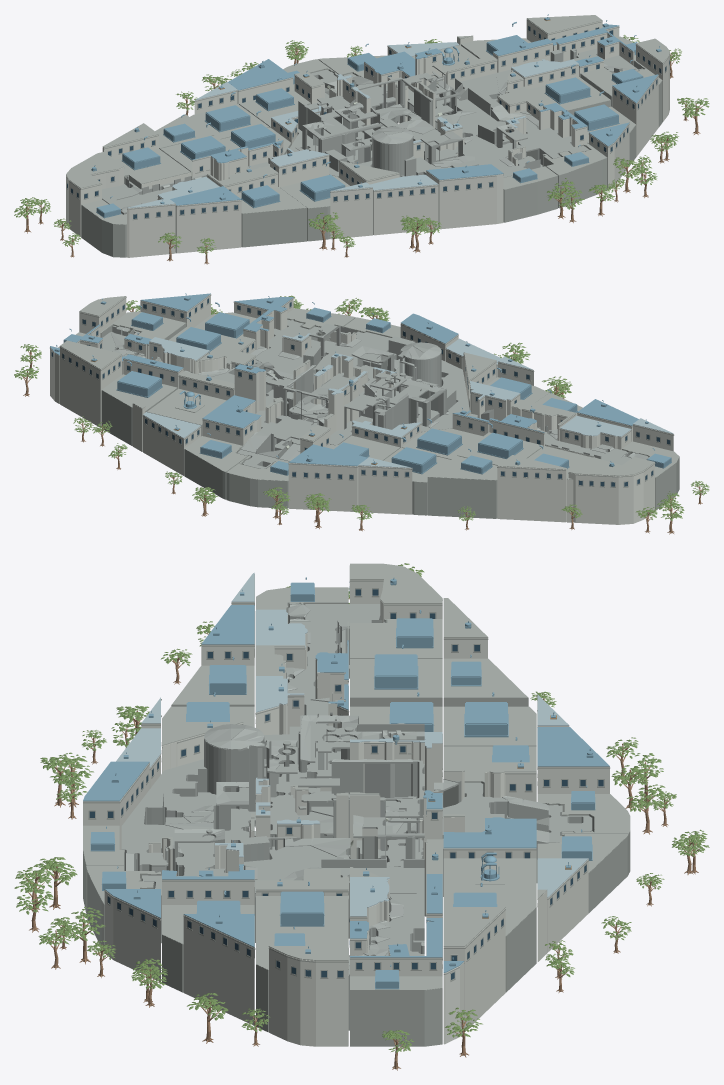
Rendered from nuke.glb.
3 renders of one model, top to bottom at view 1: azimuth 30°, elevation 25°; view 2: azimuth 150°, elevation 25°; view 3: azimuth 270°, elevation 25°, orthographic. The views are drawn at different scales.
Visible parts, largest first — view 1: ARENA_upper_wall, ARENA_upper_stone, ARENA_upper_paving, ARENA_upper_metal, ARENA_lower_leaf, ARENA_upper_roof, ARENA_upper_glass, ARENA_lower_bark; view 2: ARENA_upper_wall, ARENA_upper_stone, ARENA_upper_paving, ARENA_upper_metal, ARENA_upper_roof, ARENA_lower_leaf, ARENA_upper_glass, ARENA_lower_bark; view 3: ARENA_upper_stone, ARENA_upper_wall, ARENA_upper_paving, ARENA_upper_metal, ARENA_lower_leaf, ARENA_upper_roof, ARENA_lower_bark, ARENA_upper_glass.
Part boxes in pixels (x1,y1,x2,y2): ARENA_upper_wall: (66,19,669,257); ARENA_upper_stone: (66,15,669,257); ARENA_upper_paving: (102,48,643,214); ARENA_upper_metal: (91,14,661,218); ARENA_lower_leaf: (14,35,709,254); ARENA_upper_roof: (127,42,604,208); ARENA_upper_glass: (67,26,669,218); ARENA_lower_bark: (23,39,703,264); ARENA_upper_wall: (50,294,673,524); ARENA_upper_stone: (50,294,679,518); ARENA_upper_paving: (102,319,650,468); ARENA_upper_metal: (50,293,671,475); ARENA_upper_roof: (142,328,673,471); ARENA_lower_leaf: (14,295,709,520); ARENA_upper_glass: (51,298,670,486); ARENA_lower_bark: (22,303,702,534); ARENA_upper_stone: (83,563,630,1046); ARENA_upper_wall: (83,579,609,1046); ARENA_upper_paving: (121,602,592,1030); ARENA_upper_metal: (83,577,609,989); ARENA_lower_leaf: (14,563,709,1052); ARENA_upper_roof: (101,572,595,916); ARENA_lower_bark: (24,598,699,1070); ARENA_upper_glass: (89,582,603,979).
Size of what is drawn, in the model's own units: 102 by 11.29 by 63.
